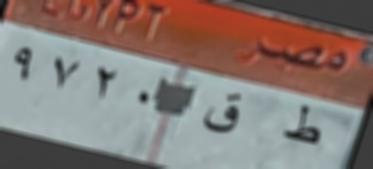0: (136, 88, 152, 110)
2: (96, 61, 120, 103)
7: (50, 54, 81, 94)
9: (12, 44, 37, 84)
Taa: (281, 99, 325, 152)
qaaf: (202, 87, 245, 140)
